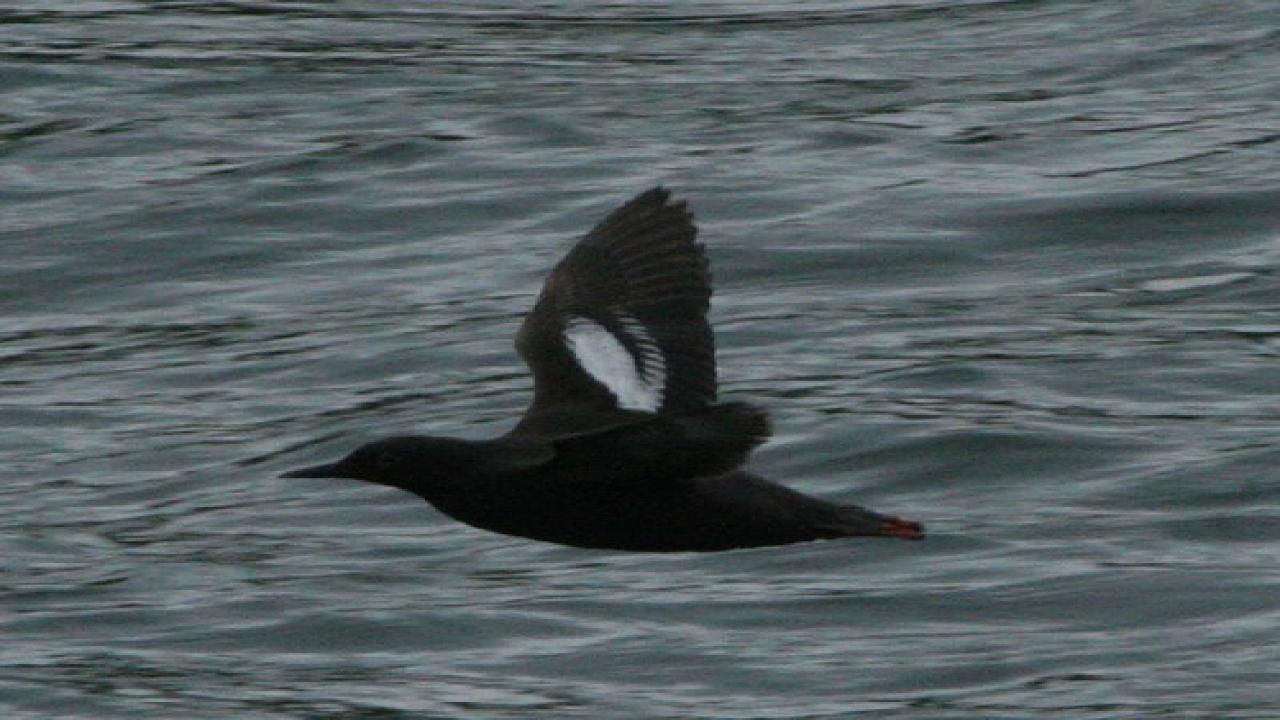Bird: (267, 177, 943, 561)
